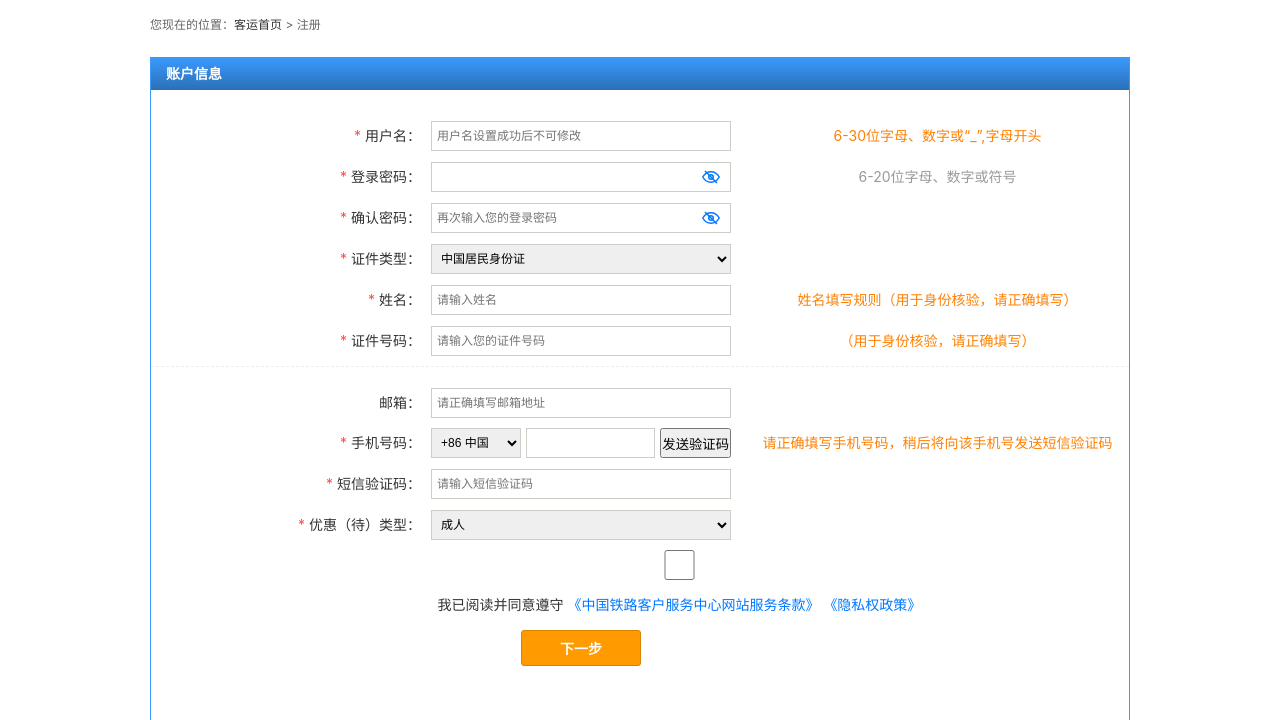
Test case: P004_Register 组件测试 - 必填项拦截 › 未勾选协议点击注册弹出提示
This screenshot has width=1280, height=720.
Type "user_chk" into the field with placeholder "用户名设置成功后不可修改" at {"x": 581, "y": 136}, box [431,121,731,151]
Type "Abc123!" into the password field named "password" at {"x": 581, "y": 177}, box [431,162,731,192]
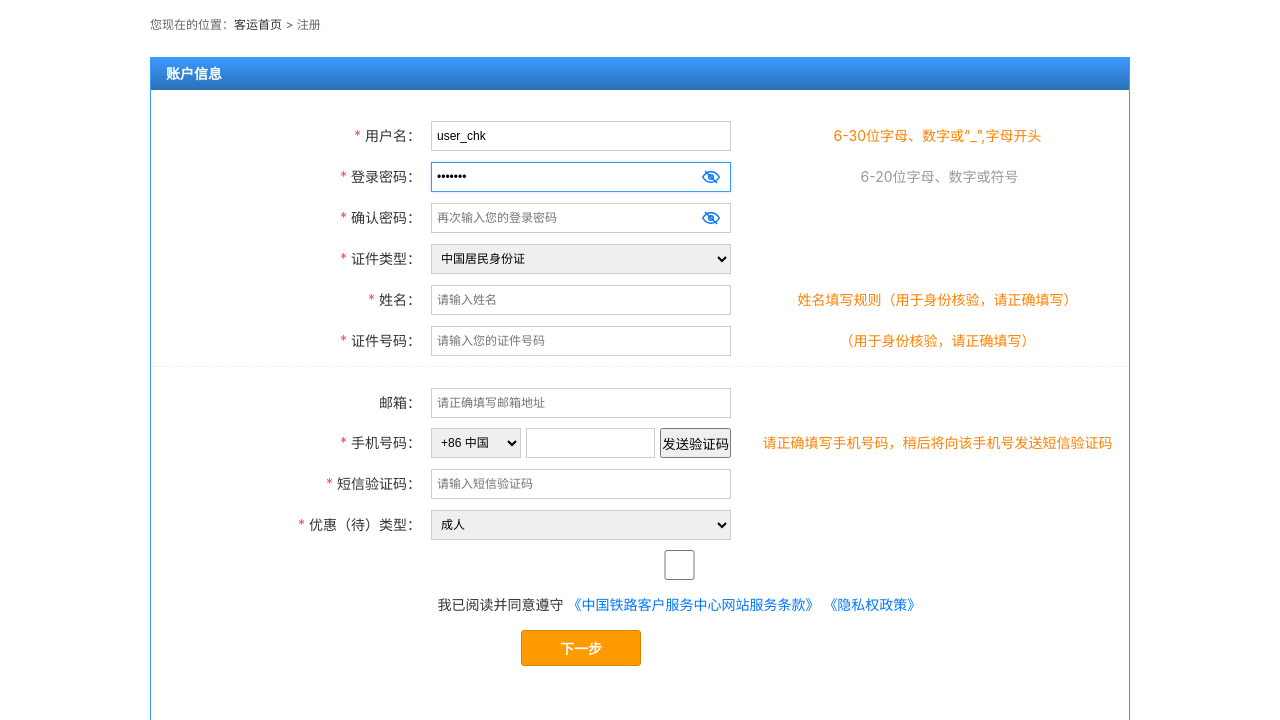
Type "Abc123!" into the password field with placeholder "再次输入您的登录密码" at {"x": 581, "y": 218}, box [431,203,731,233]
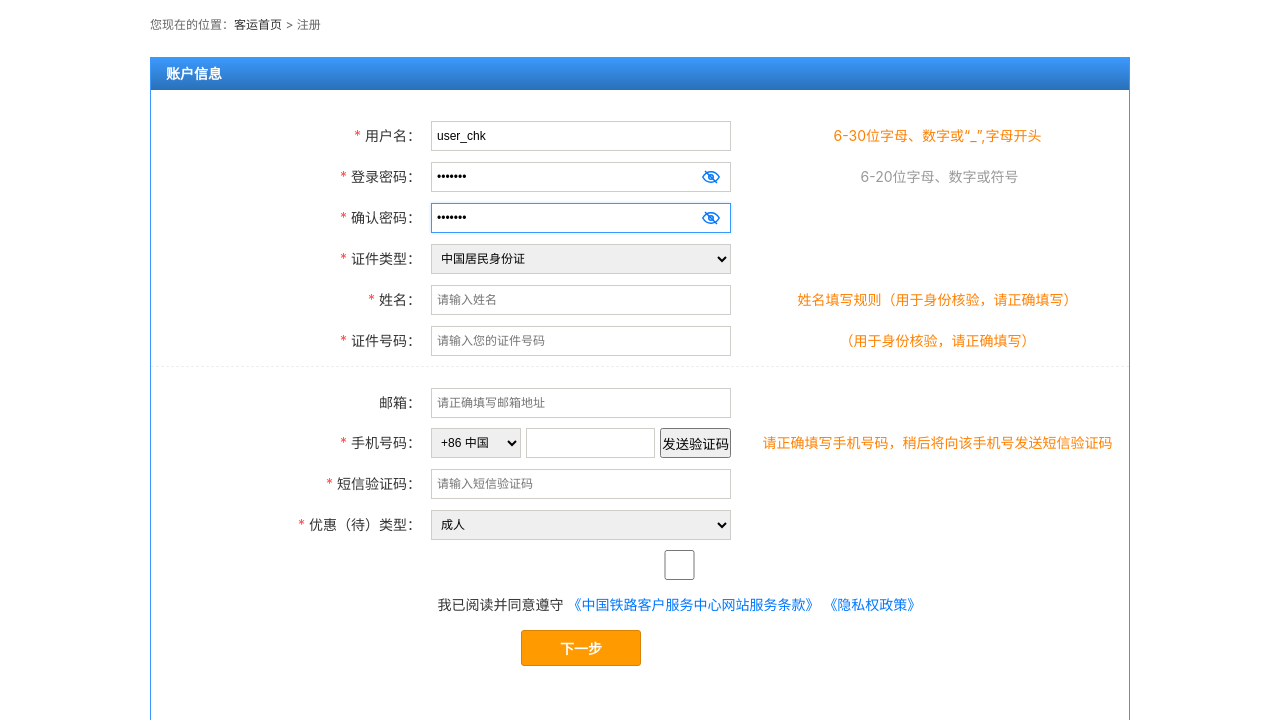
Type "王小明" into the field with placeholder "请输入姓名" at {"x": 581, "y": 300}, box [431,285,731,315]
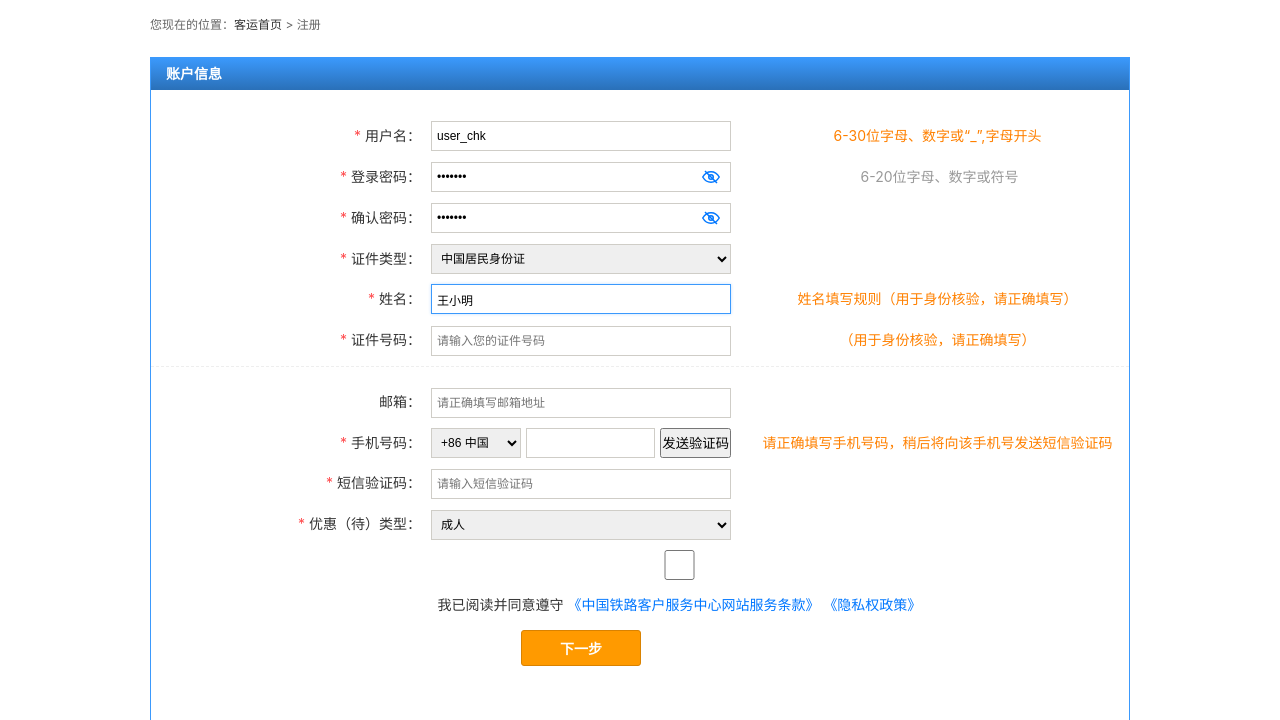
Type "110101199001011234" into the field with placeholder "请输入您的证件号码" at {"x": 581, "y": 340}, box [431,326,731,356]
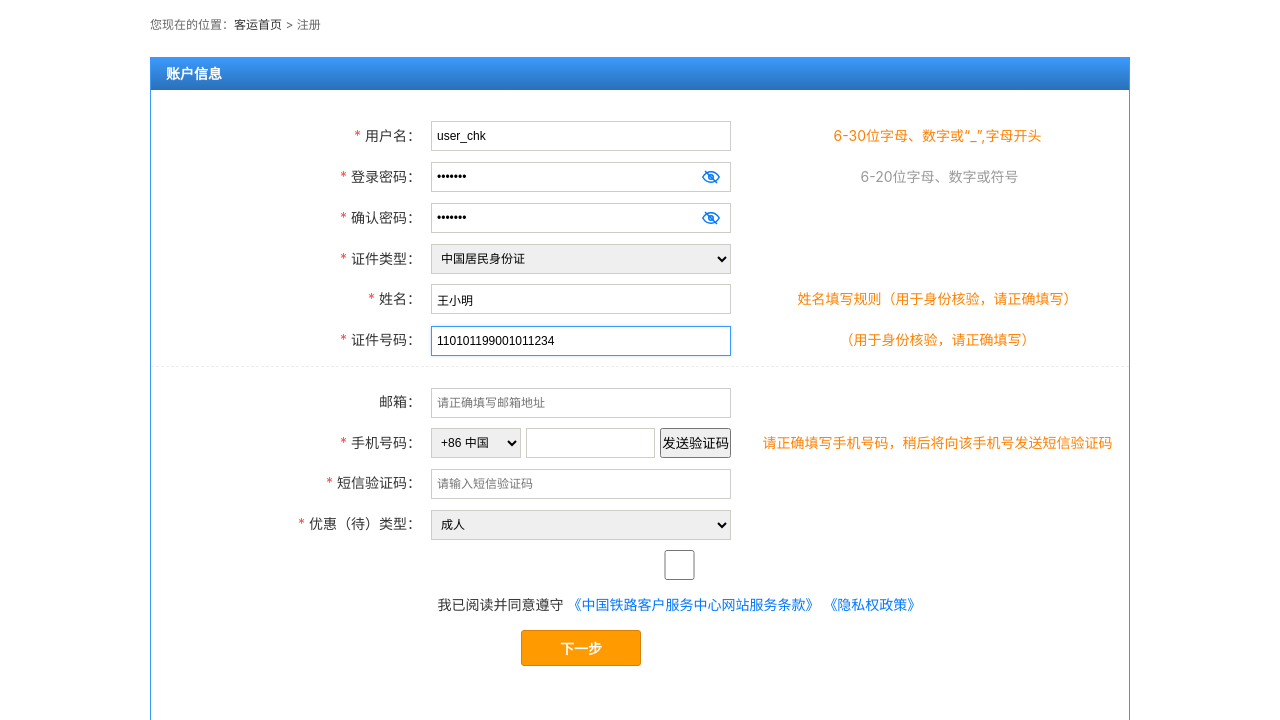
Type "13800138000" into the field next to "手机号码：" at {"x": 591, "y": 442}, box [526,428,655,458]
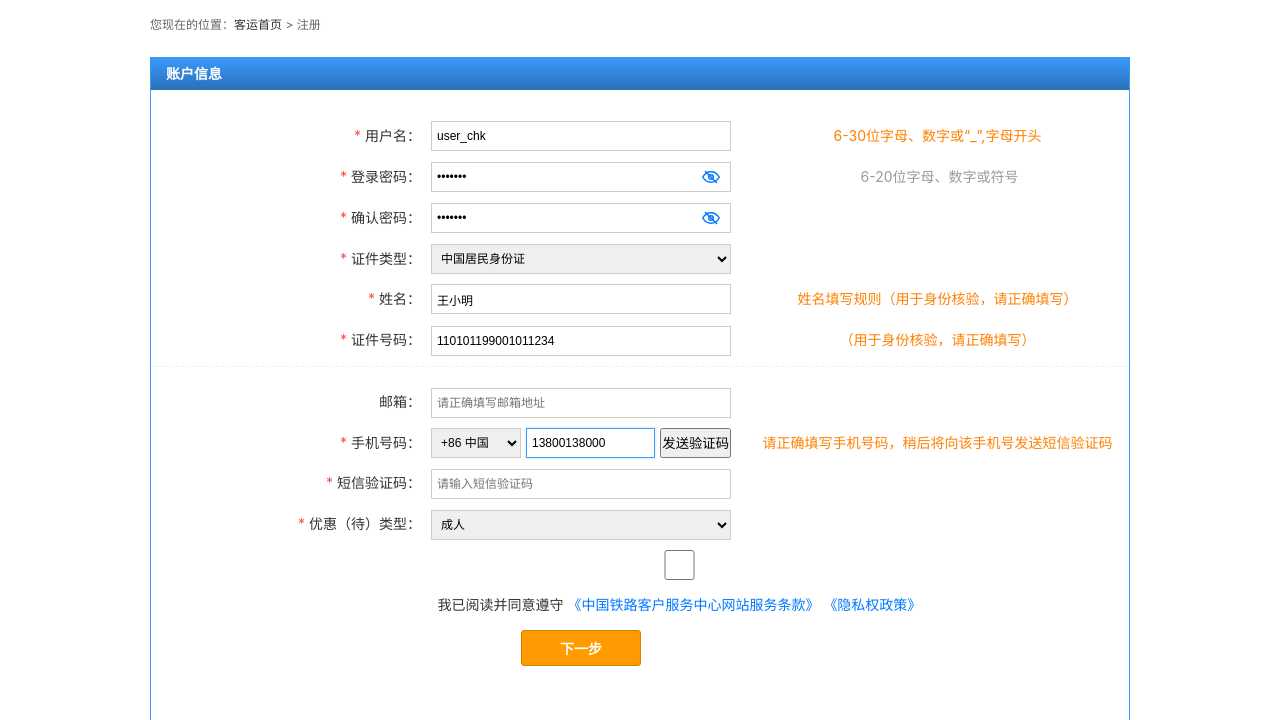
Type "123456" into the field with placeholder "请输入短信验证码" at {"x": 581, "y": 484}, box [431,468,731,498]
Click the button "下一步" at {"x": 581, "y": 648}, box [521,630,641,666]
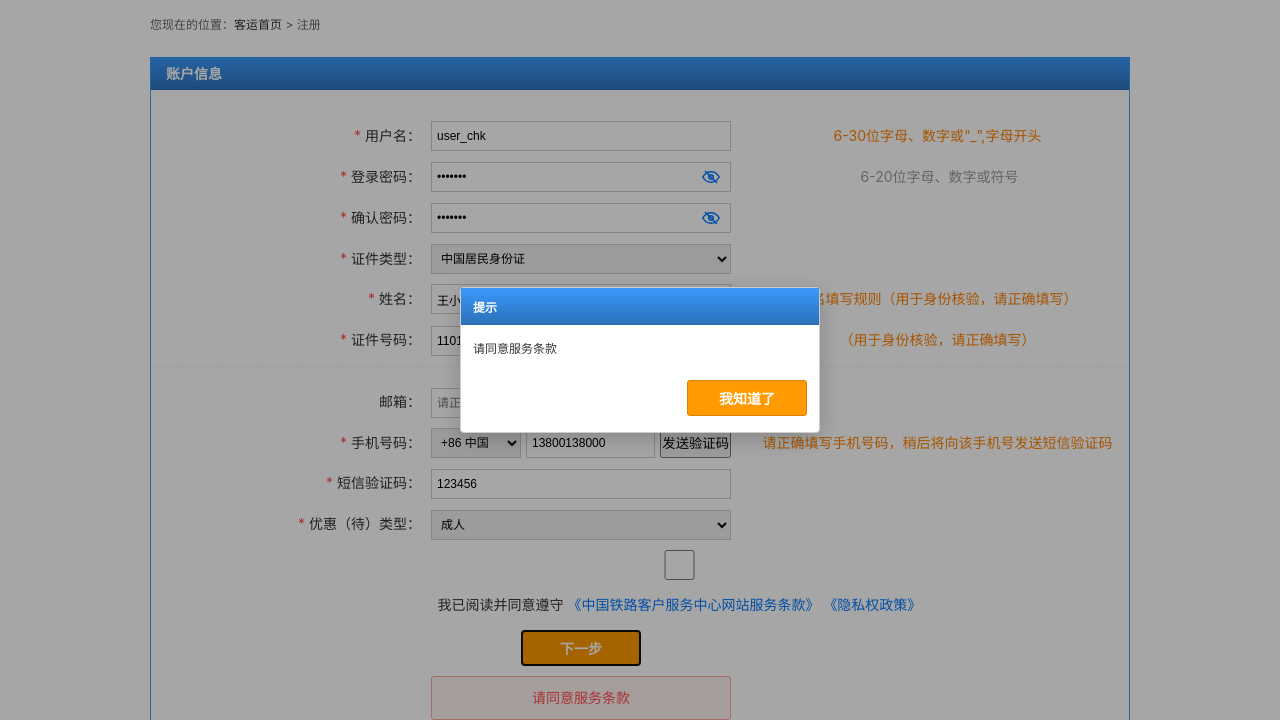
Result: the 2nd text "请同意服务条款" is shown at [431,676,731,719]
